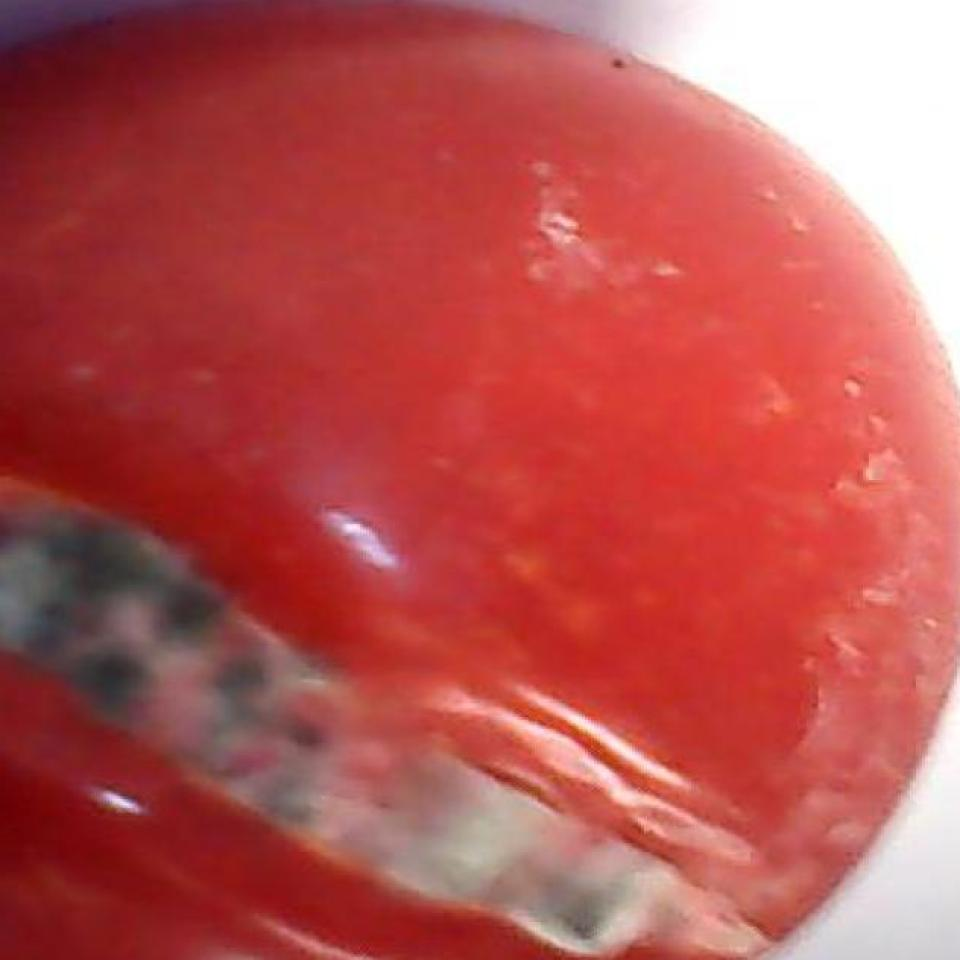Cracking: (0, 505, 838, 960)
